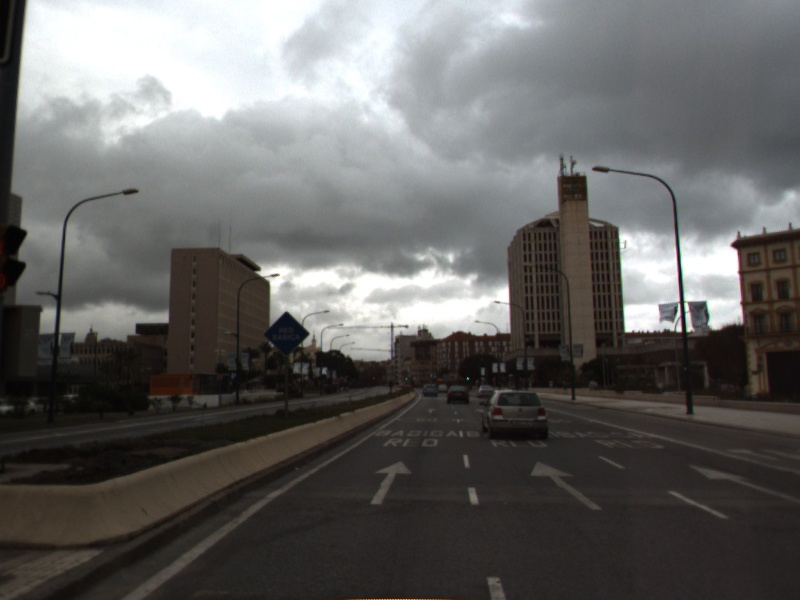STRAIGHT: (686, 462, 800, 505), (527, 458, 605, 512), (367, 458, 415, 507)
